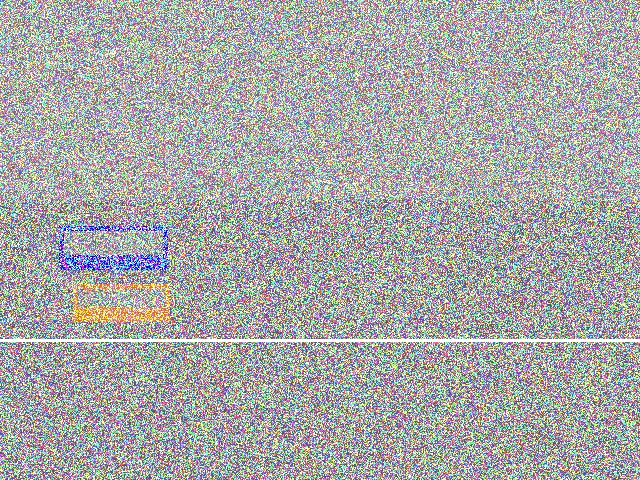motorcycle: (451, 175, 552, 227)
